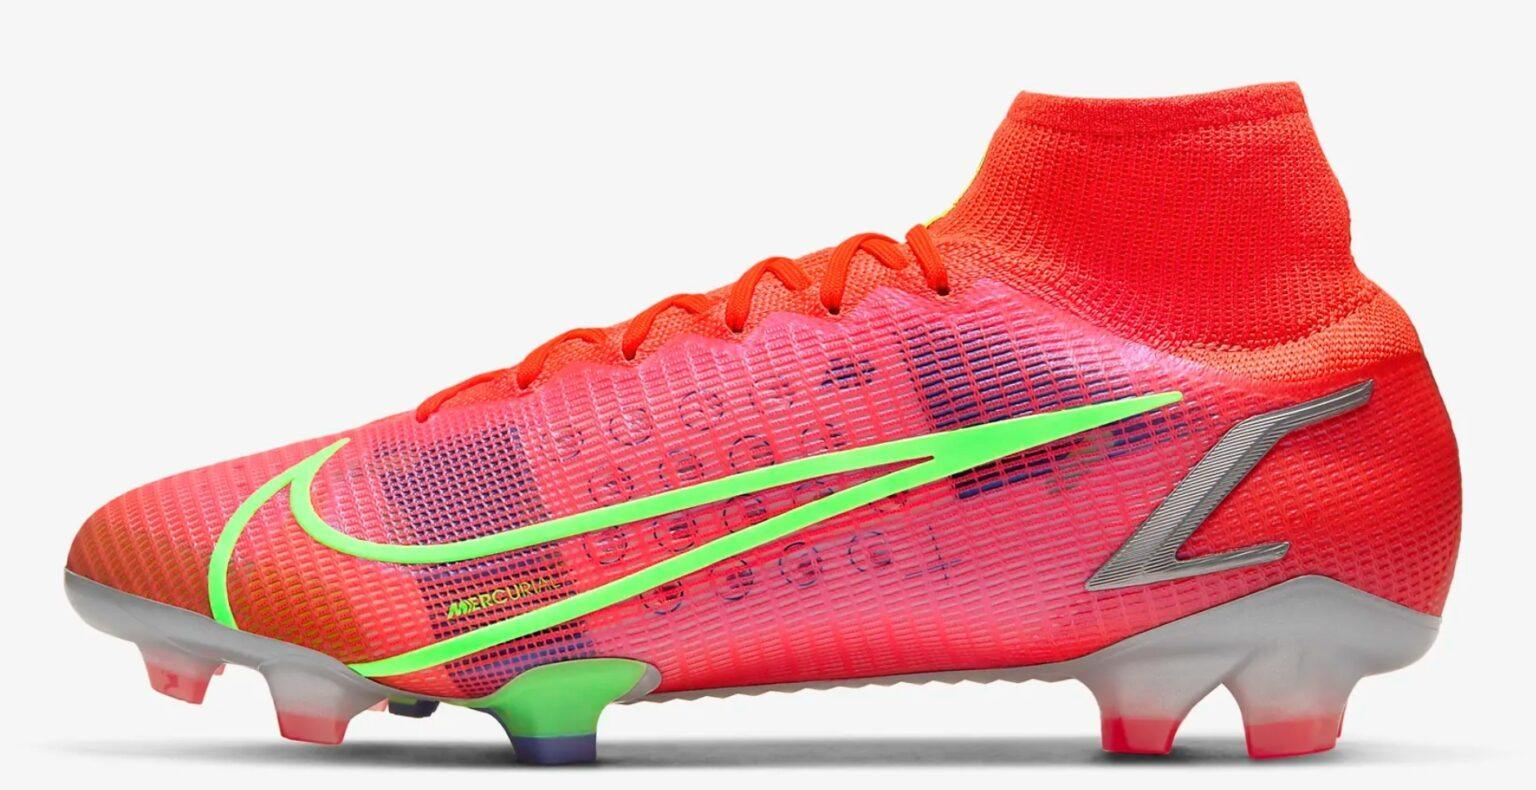football boots: (59, 78, 1468, 769)
